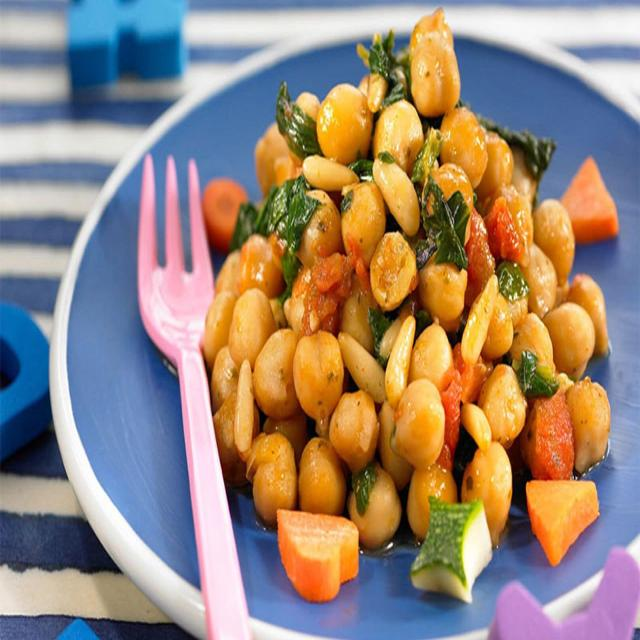garbanzos: (180, 16, 629, 590)
